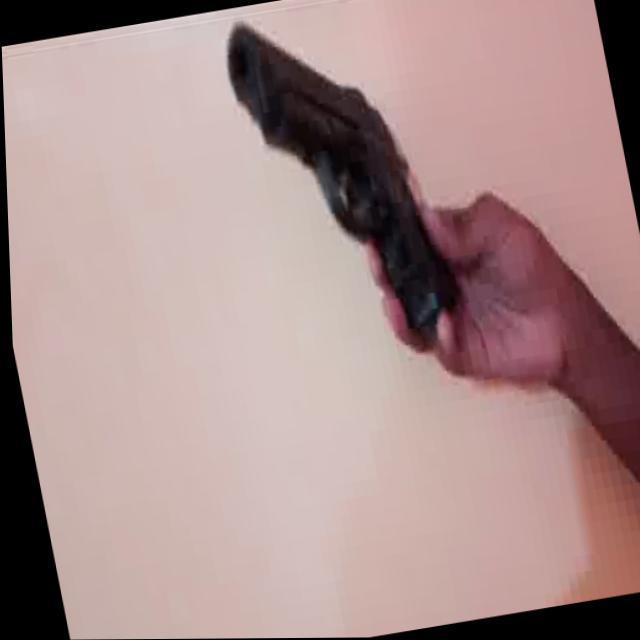weapon: (216, 0, 477, 377)
